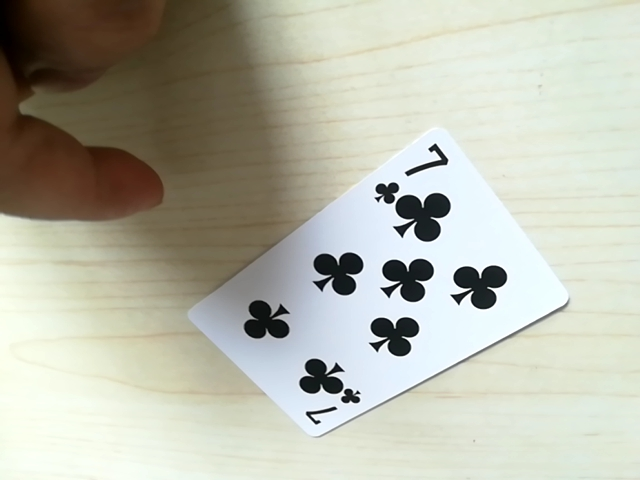mh 7: (292, 384, 362, 433), (388, 135, 451, 182)
